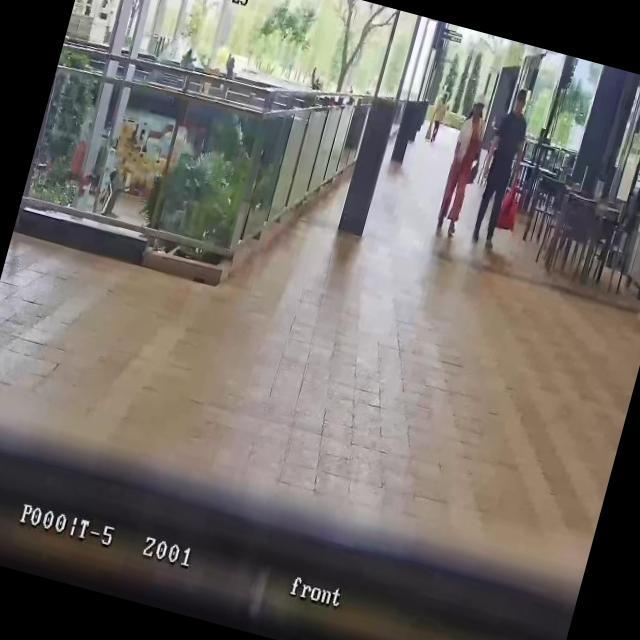person: (464, 84, 538, 253), (431, 98, 495, 241), (425, 92, 450, 144)
